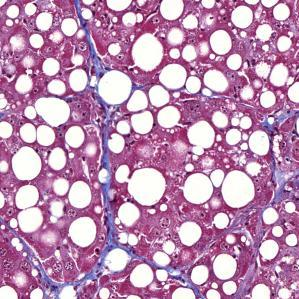fibrosis: (90, 137, 123, 245)
